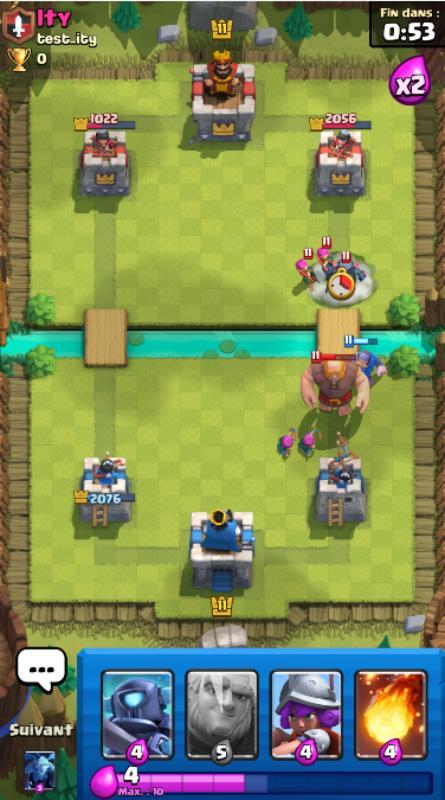archere: (295, 248, 322, 291), (296, 424, 323, 462), (316, 236, 338, 275), (276, 424, 297, 461)
chevalier: (344, 335, 388, 388)
geant: (300, 350, 371, 417)
mini_PEKKA: (325, 252, 368, 293)
